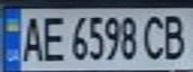5: (84, 12, 106, 62)
6: (66, 12, 90, 62)
8: (118, 12, 142, 62)
9: (103, 12, 124, 62)
A: (18, 12, 45, 63)
B: (157, 11, 190, 62)
C: (139, 11, 172, 61)
E: (39, 11, 69, 63)
